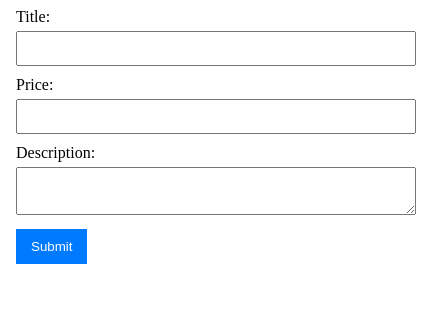
Test: new.vue › should display error message when submission fails
In the field with id "title": coordinates (216, 48) [16,31,416,66], type "Mojito"
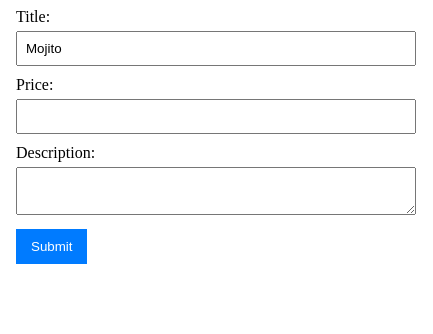
In the number field labelled "Price:": coordinates (216, 116) [16,99,416,134], type "9"
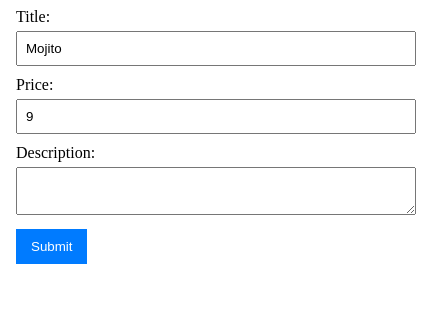
In the text box with id "description": coordinates (216, 191) [16,167,416,215], type "Yummy"
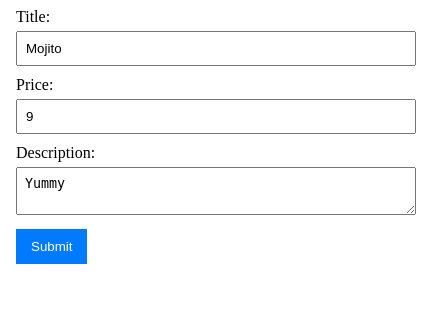
Submit the form
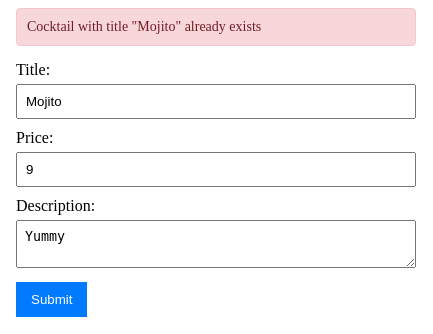
Expected: the text with class "alert-error" reads "Cocktail with title \"Mojito\" already exists", [27,19,261,34]
